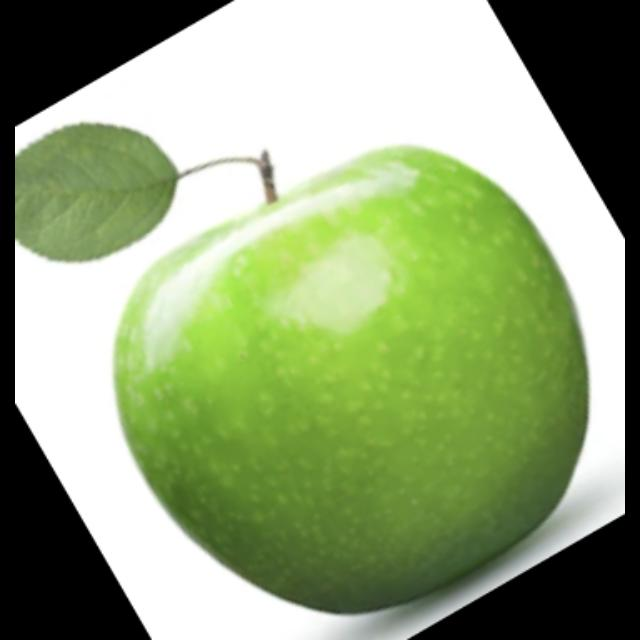Apel Segar: (73, 91, 609, 634)
